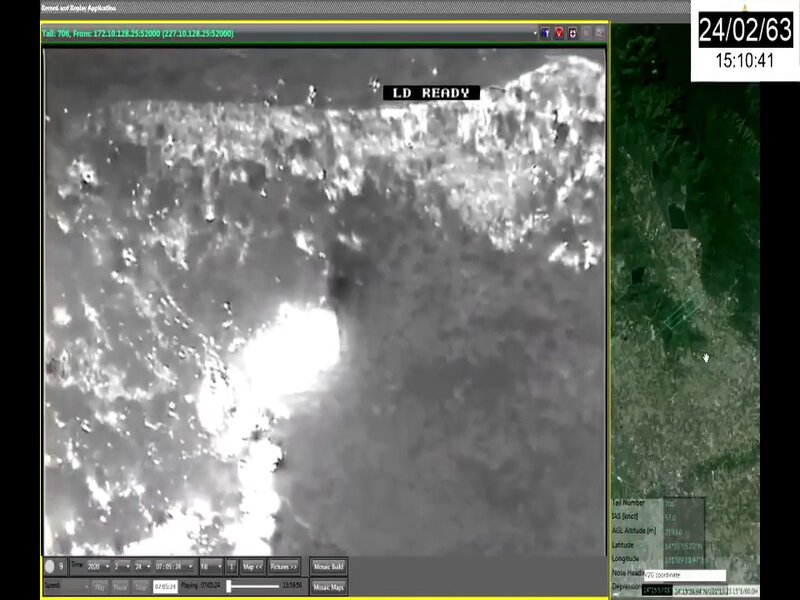Fire: (95, 300, 345, 556)
